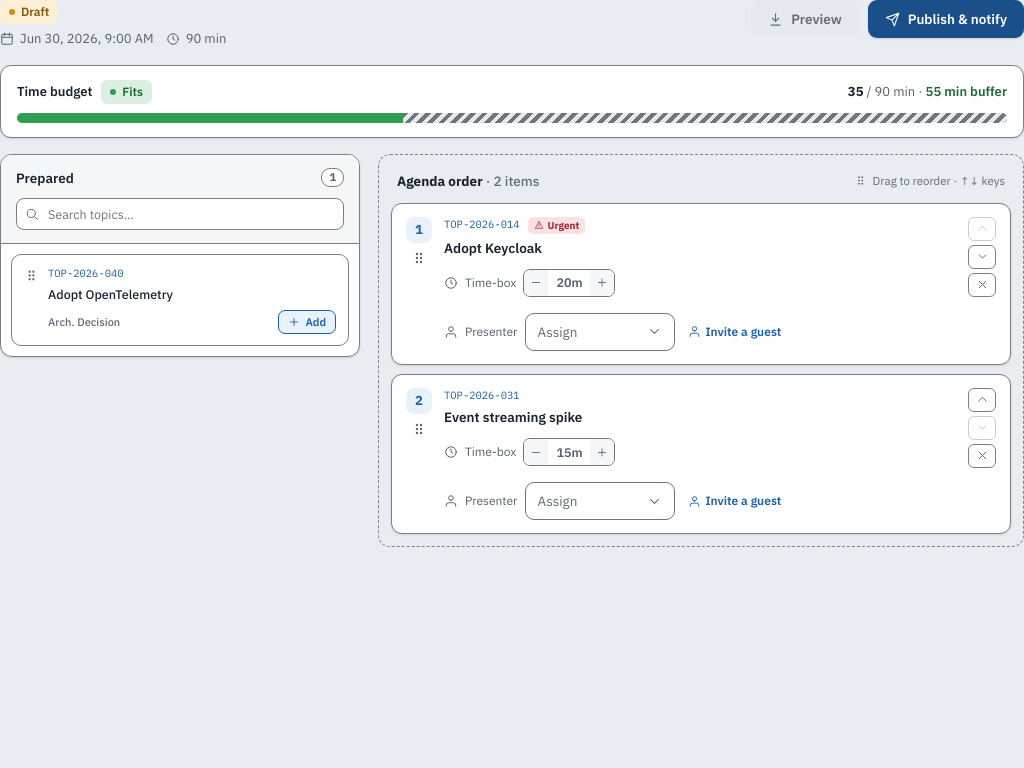
Scenario: AgendaBuilder (P6c) › cancels the publish confirmation without publishing
This screenshot has width=1024, height=768.
Click the button "Publish & notify" at (946, 19), box [868,0,1023,38]
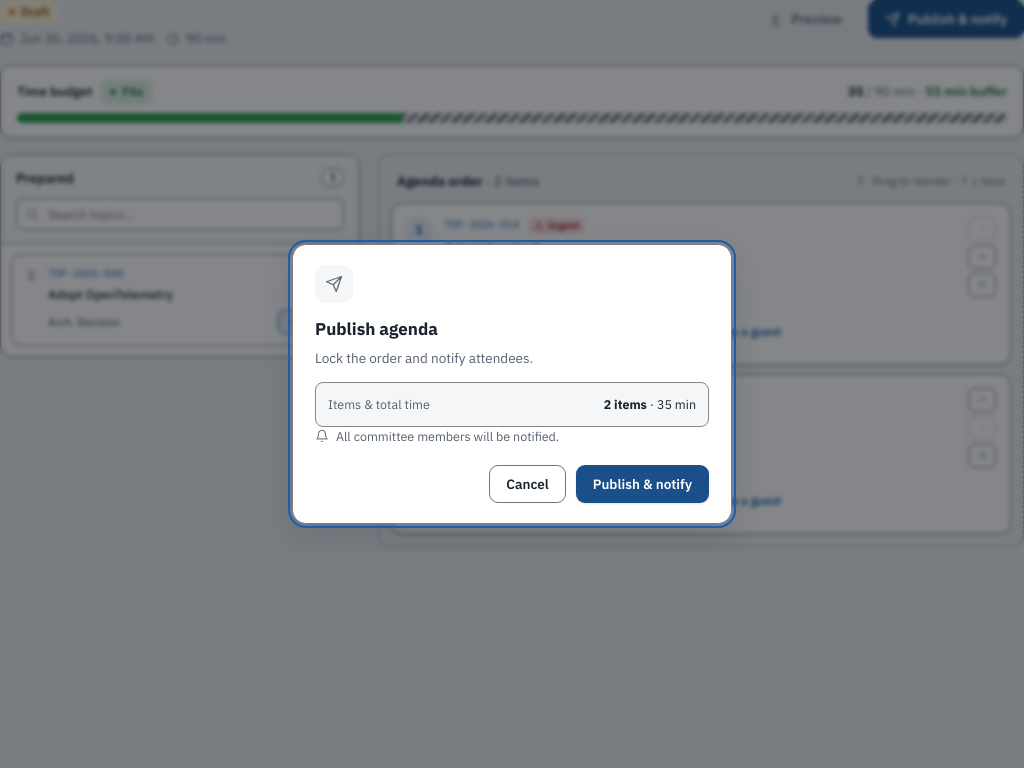
Click the button "Cancel" at (528, 484), box [489,465,566,503]
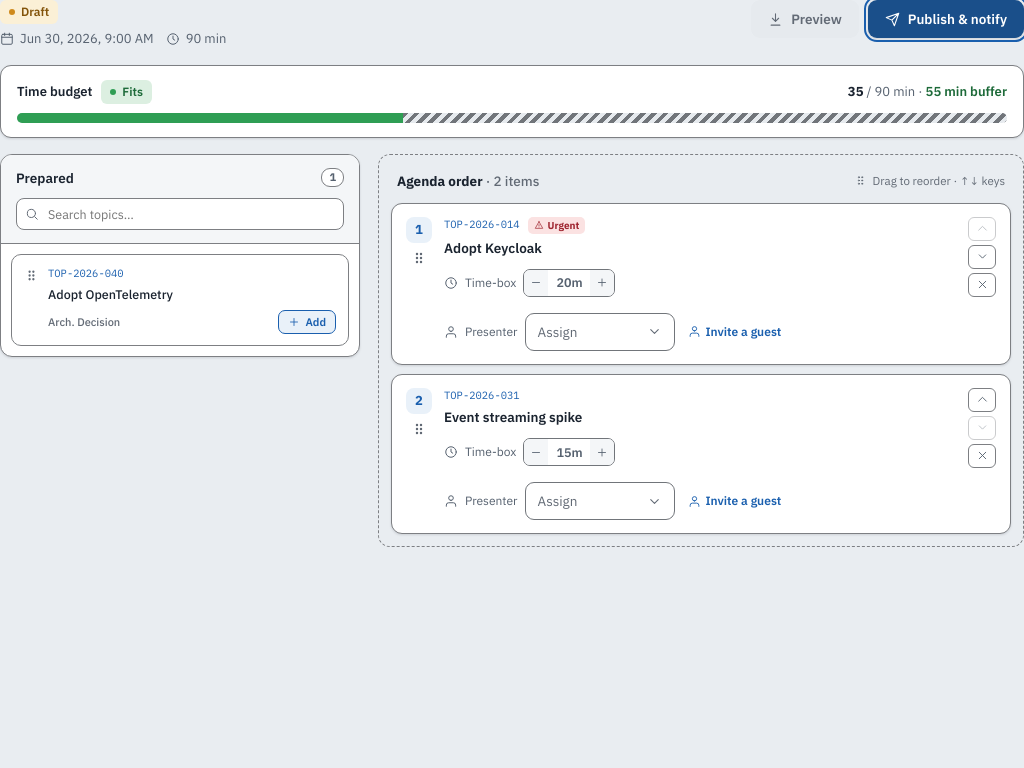
Expected: the dialog is gone
